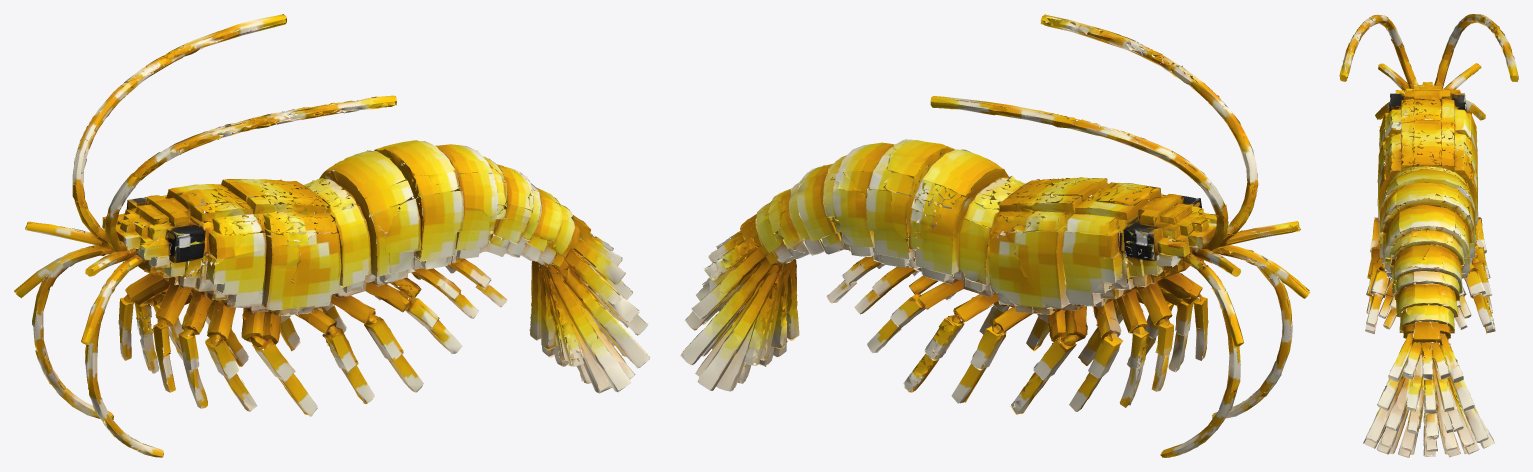
The model's file is shrimp_a-opt.glb.
3 renders of one model, left to right at view 1: azimuth 30°, elevation 25°; view 2: azimuth 150°, elevation 25°; view 3: azimuth 270°, elevation 25°, orthographic. The views are drawn at different scales.
Parts seen in each view (by area): view 1: node_0; view 2: node_0; view 3: node_0.
Part boxes in pixels (box(x1,y1,x2,y2)): node_0: box(14, 14, 650, 457); node_0: box(679, 14, 1310, 457); node_0: box(1339, 14, 1518, 457).
Bounding box in the file's own units: 1.09 × 0.6779 × 0.3772.
Materials: 1 (1 with a texture image).
